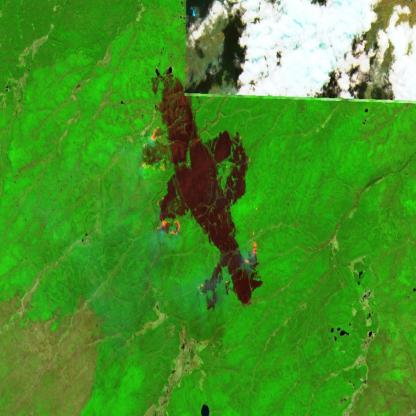fire: (154, 195, 180, 238), (242, 234, 259, 269), (147, 121, 163, 148)
